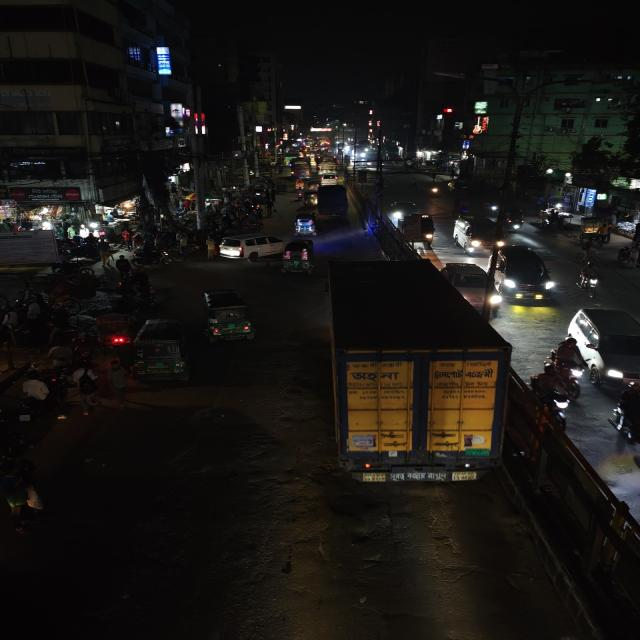bus: (291, 158, 311, 177), (317, 157, 337, 174)
car: (566, 304, 640, 390), (488, 243, 559, 305), (443, 260, 498, 315), (609, 380, 640, 462), (451, 214, 506, 253), (214, 231, 288, 259), (319, 173, 341, 185)
cng: (130, 320, 192, 388), (198, 288, 258, 346), (278, 238, 315, 276), (292, 208, 320, 236), (502, 208, 528, 234), (294, 176, 315, 192), (300, 188, 318, 206)
motorcycle: (15, 376, 74, 424), (528, 364, 572, 420), (550, 334, 586, 392), (574, 261, 605, 300), (502, 208, 528, 235), (427, 181, 444, 198)
pedestrian: (1, 458, 48, 529), (74, 369, 102, 409), (104, 357, 130, 399), (114, 255, 135, 284)
pickup_van: (313, 184, 352, 222)
rickshaw: (86, 307, 136, 349)
truck: (321, 260, 513, 490)
